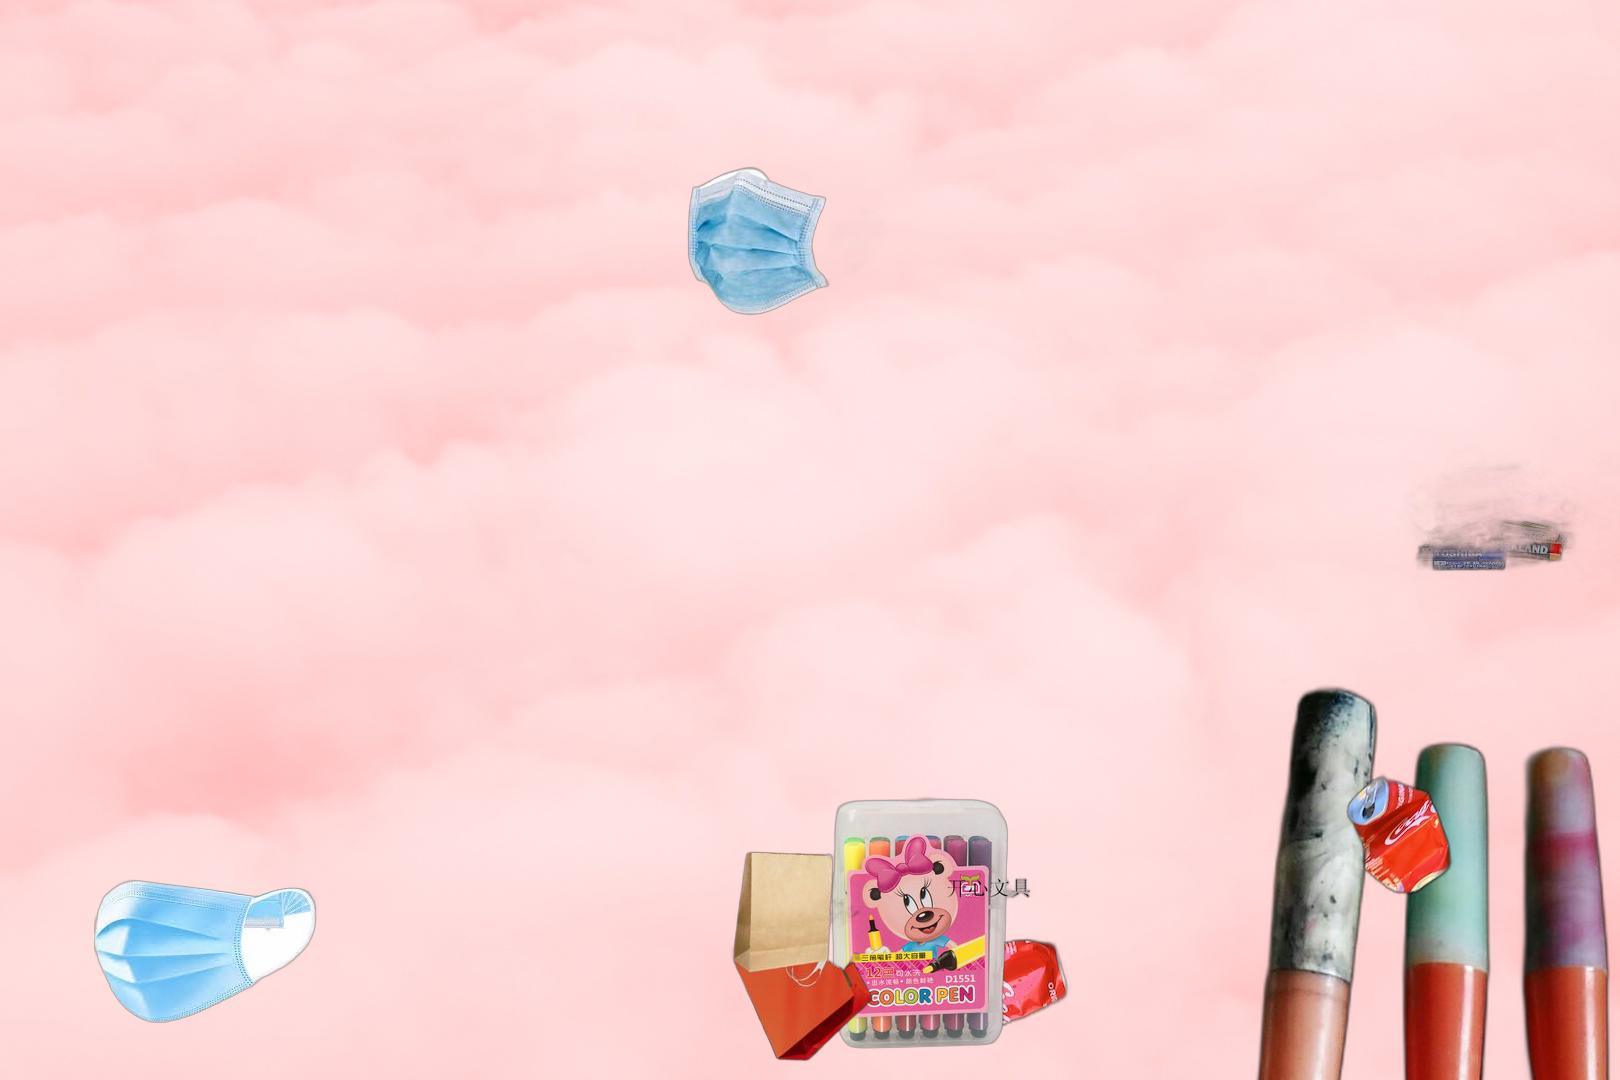battery: (1364, 407, 1620, 587)
metal-cans: (652, 688, 1164, 1080), (1344, 770, 1455, 899)
paper-bag: (729, 851, 890, 1063)
penholder: (1204, 677, 1620, 1080), (830, 796, 1033, 1051)
trash: (94, 877, 319, 1023), (685, 166, 888, 317)
